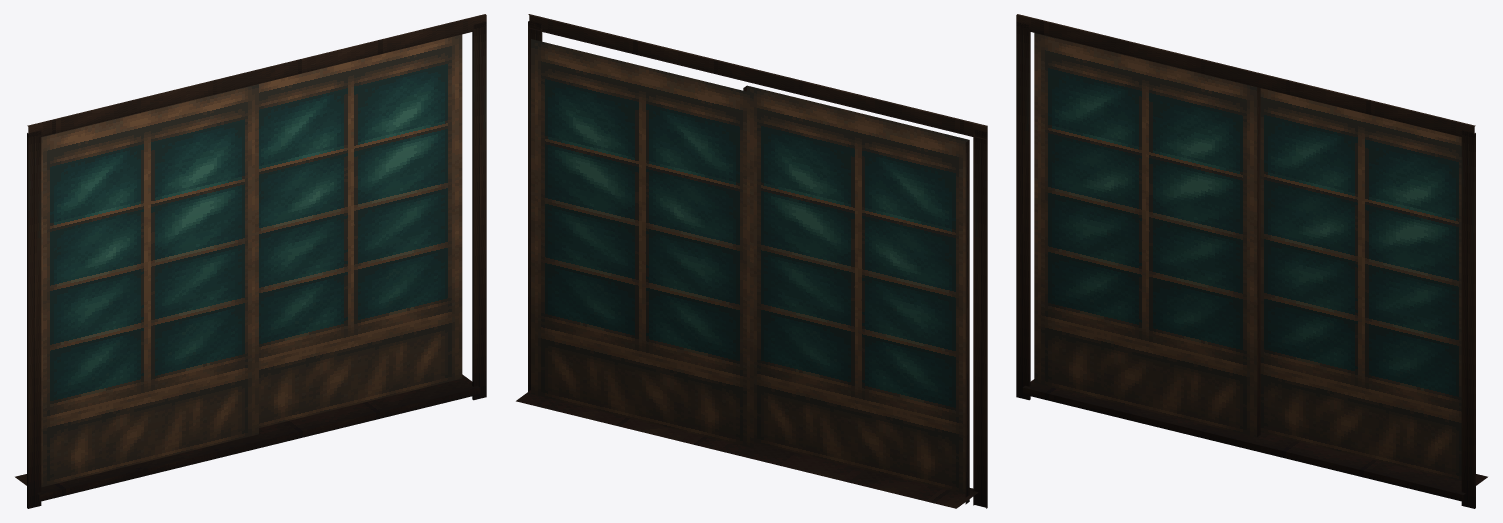
File: prop_sash-20-16-1.glb
The picture shows the model from 3 angles, left to right: view 1: azimuth 30°, elevation 25°; view 2: azimuth 150°, elevation 25°; view 3: azimuth 330°, elevation 25°; orthographic projection.
Visible parts, largest first — view 1: prop_sash-20-16-1; view 2: prop_sash-20-16-1; view 3: prop_sash-20-16-1.
Part boxes in pixels (x1=…): prop_sash-20-16-1: x1=15, y1=14, x2=486, y2=508; prop_sash-20-16-1: x1=516, y1=14, x2=987, y2=508; prop_sash-20-16-1: x1=1016, y1=14, x2=1487, y2=508.
Bounding box in the file's own units: 2.12 × 1.69 × 0.2.
2 materials, 2 textured.
